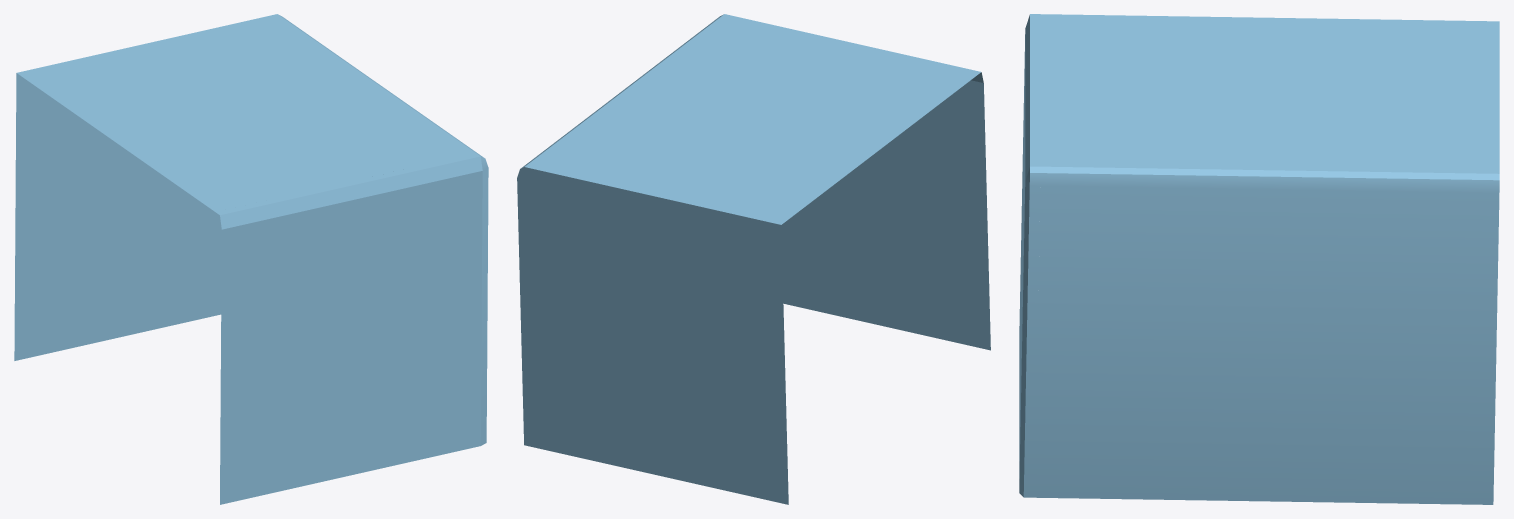
Rendered from Prop_closet_block.fbx.
The picture shows the model from 3 angles, left to right: view 1: azimuth 30°, elevation 25°; view 2: azimuth 150°, elevation 25°; view 3: azimuth 270°, elevation 25°; orthographic projection. The views are drawn at different scales.
Parts seen in each view (by area): view 1: Prop_closet_block; view 2: Prop_closet_block; view 3: Prop_closet_block.
Part boxes in pixels (bbox=[...]): Prop_closet_block: bbox=[14, 14, 488, 504]; Prop_closet_block: bbox=[517, 14, 990, 504]; Prop_closet_block: bbox=[1019, 14, 1499, 504].
Size of the model in its own units: 26.23 by 34.58 by 27.18.
